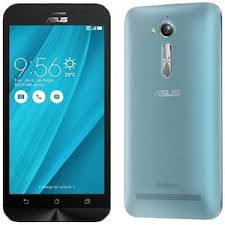asus: (1, 1, 113, 222), (123, 1, 225, 219)
